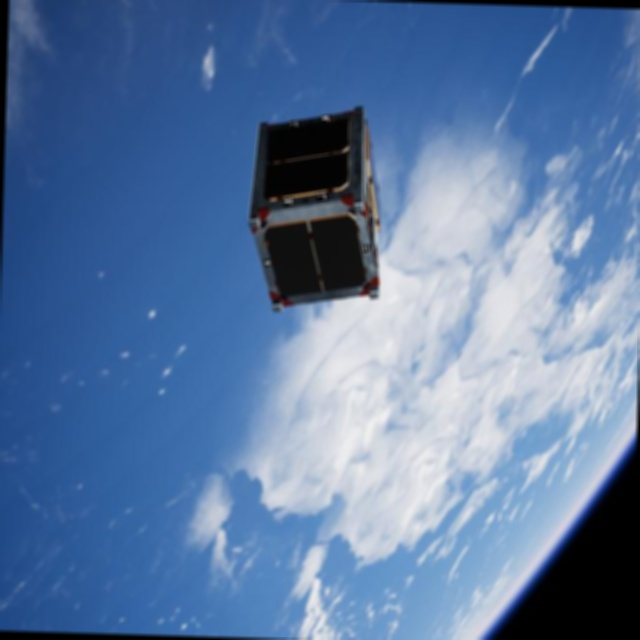satellite: (239, 99, 388, 319)
